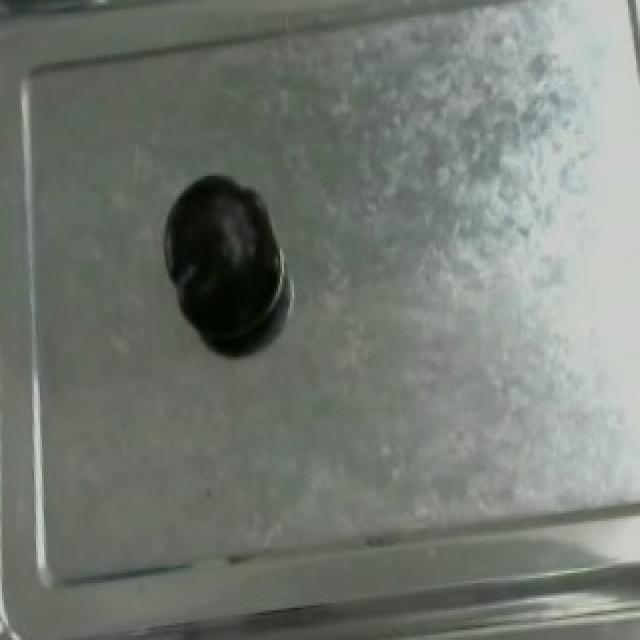Fruit: (164, 164, 286, 352)
